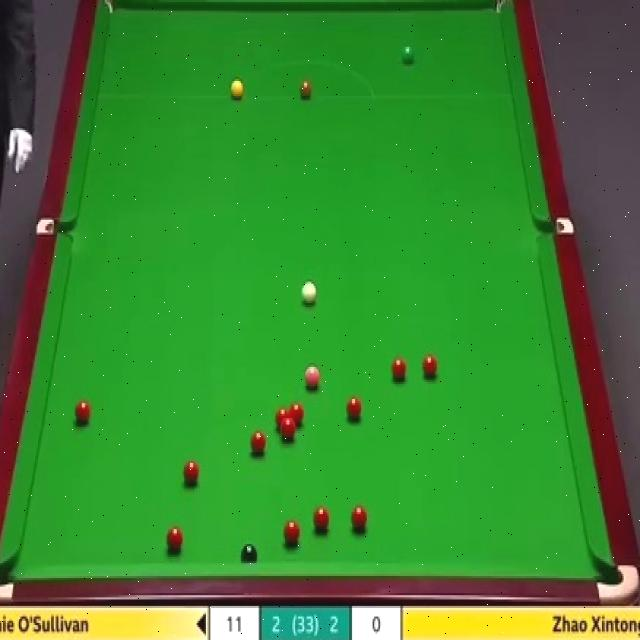black-ball: (240, 543, 260, 565)
brown-ball: (299, 76, 312, 98)
green-ball: (398, 43, 414, 66)
pink-ball: (304, 366, 321, 392)
red-ball: (342, 393, 362, 421), (165, 524, 183, 554), (422, 353, 440, 382), (74, 398, 92, 427), (312, 505, 330, 532), (350, 506, 368, 533), (391, 355, 408, 383), (250, 430, 267, 457), (283, 518, 300, 545), (274, 407, 290, 434), (182, 462, 200, 484), (290, 403, 304, 428), (281, 421, 297, 442)
white-ball: (300, 280, 316, 304)
yellow-ball: (229, 80, 245, 99)
